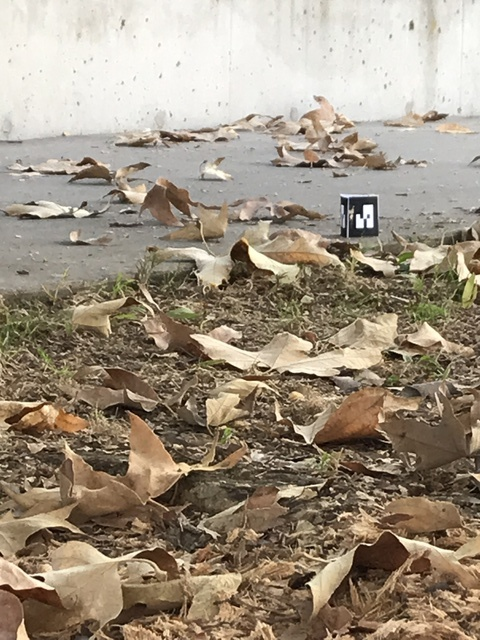ARTag: (339, 192, 380, 238)
